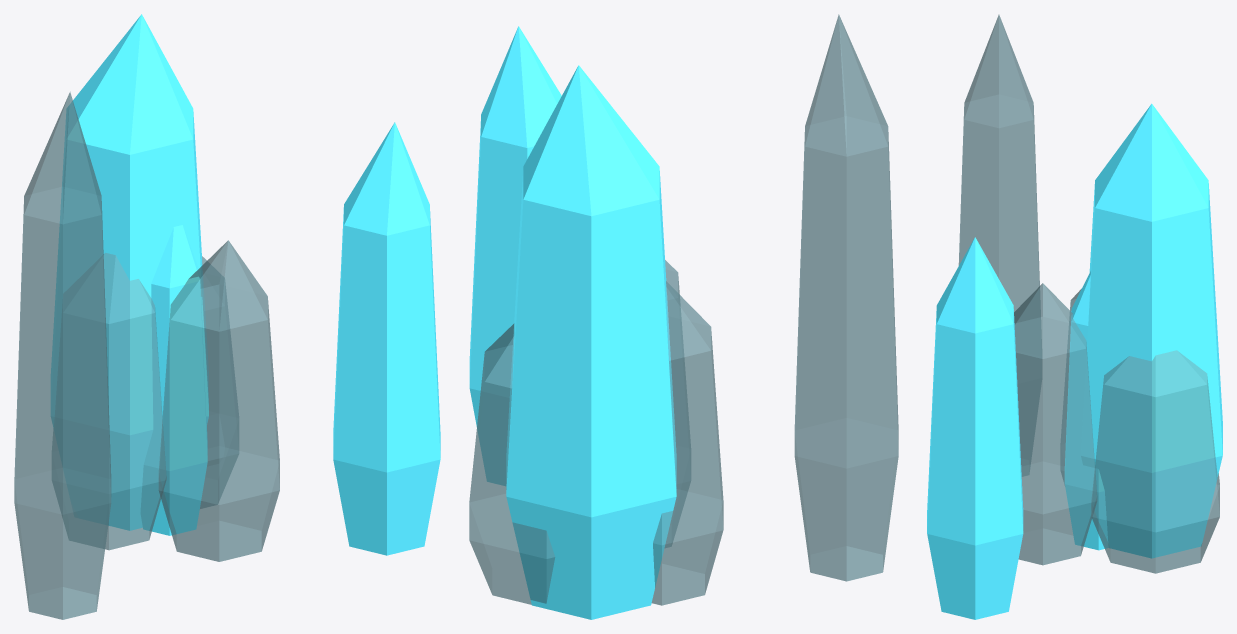
Rendered from crystal_cluster.glb.
3 views of the same model, side by side, from view 1: azimuth 30°, elevation 25°; view 2: azimuth 150°, elevation 25°; view 3: azimuth 270°, elevation 25° (orthographic). The views are drawn at different scales.
Visible parts, largest first — view 1: Luminous_aquamarine, Smoked_crystal; view 2: Luminous_aquamarine, Smoked_crystal; view 3: Luminous_aquamarine, Smoked_crystal.
Part boxes in pixels (box(x1,y1,x2,y2)): Luminous_aquamarine: box(51, 14, 440, 555); Smoked_crystal: box(14, 91, 279, 619); Luminous_aquamarine: box(469, 26, 676, 619); Smoked_crystal: box(469, 14, 898, 605); Luminous_aquamarine: box(927, 103, 1222, 619); Smoked_crystal: box(958, 14, 1219, 573).
Bounding box in the file's own units: 1.49 × 1.76 × 1.03.
